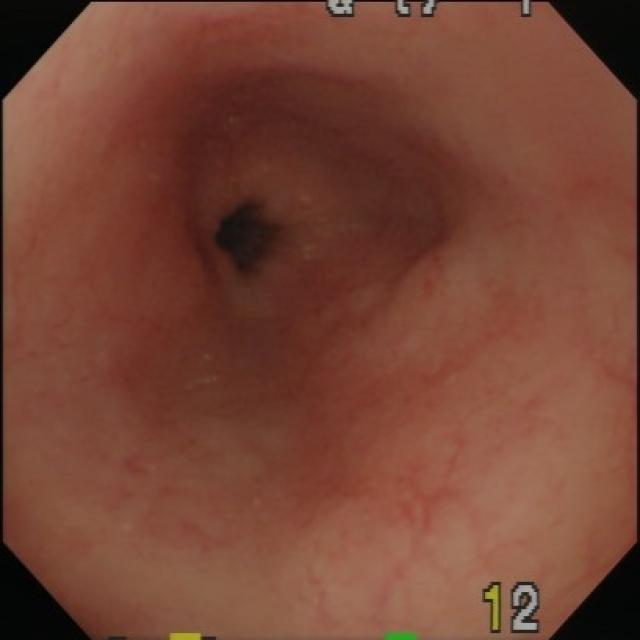E: (211, 198, 284, 275)
S: (483, 581, 544, 636), (324, 3, 543, 18)
